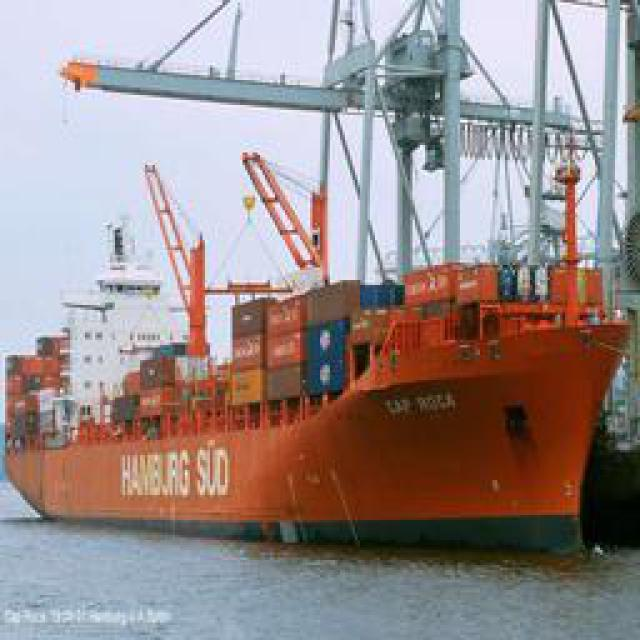Ship: (11, 118, 631, 543)
